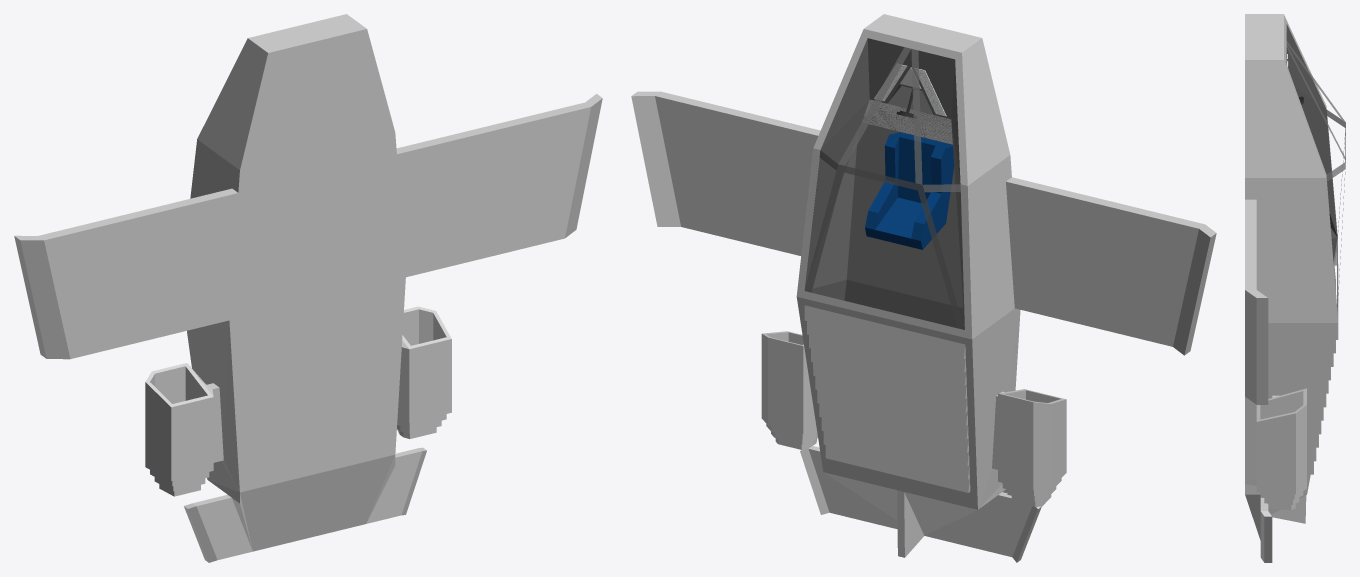
Rendered from SpaceCraft.fbx.
The picture shows the model from 3 angles, left to right: view 1: azimuth 30°, elevation 25°; view 2: azimuth 150°, elevation 25°; view 3: azimuth 270°, elevation 25°; orthographic projection. The views are drawn at different scales.
Parts seen in each view (by area): view 1: Group7, Group4, Group1, Group3, Group2, Group_3_1; view 2: Group7, Group4, Group5, Group1, Group_3_1, Group6, Group3, Group2, Group10; view 3: Group7, Group2, Group1, Group5, Group_3_1, Group10.
Part boxes in pixels (left/top/right/bottom): Group7: left=187, top=14, right=405, bottom=551; Group4: left=14, top=188, right=238, bottom=359; Group1: left=396, top=93, right=602, bottom=277; Group3: left=145, top=363, right=213, bottom=496; Group2: left=397, top=306, right=451, bottom=438; Group_3_1: left=184, top=447, right=426, bottom=562; Group7: left=796, top=14, right=1020, bottom=509; Group4: left=1006, top=177, right=1216, bottom=355; Group5: left=804, top=38, right=964, bottom=329; Group1: left=631, top=91, right=820, bottom=255; Group_3_1: left=800, top=446, right=1041, bottom=562; Group6: left=865, top=132, right=954, bottom=249; Group3: left=998, top=389, right=1066, bottom=506; Group2: left=761, top=331, right=817, bottom=449; Group10: left=804, top=47, right=964, bottom=329; Group7: left=1245, top=14, right=1338, bottom=494; Group2: left=1256, top=388, right=1306, bottom=510; Group1: left=1245, top=199, right=1268, bottom=404; Group5: left=1286, top=24, right=1337, bottom=261; Group_3_1: left=1245, top=494, right=1306, bottom=562; Group10: left=1286, top=41, right=1345, bottom=307.
Bounding box in the file's own units: 8.24 × 6.91 × 1.3.
